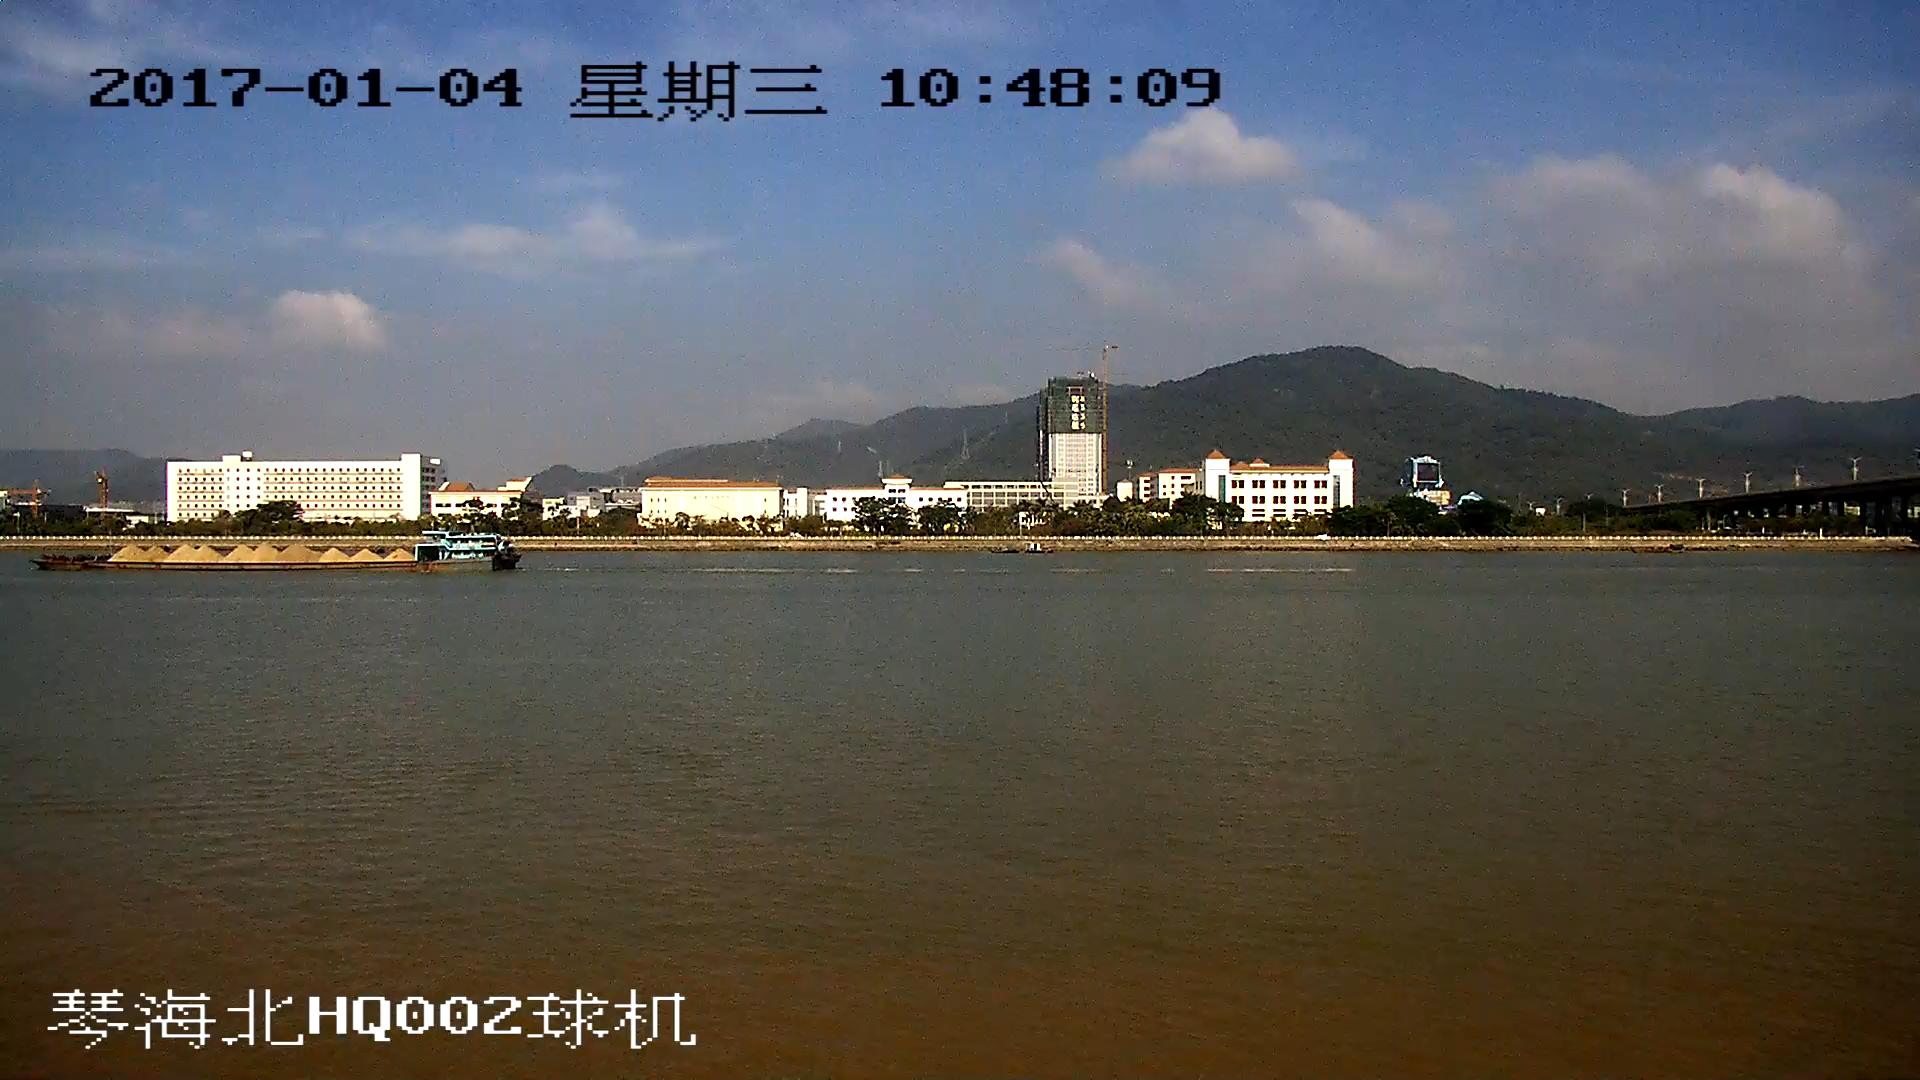ore carrier: (38, 529, 515, 576)
